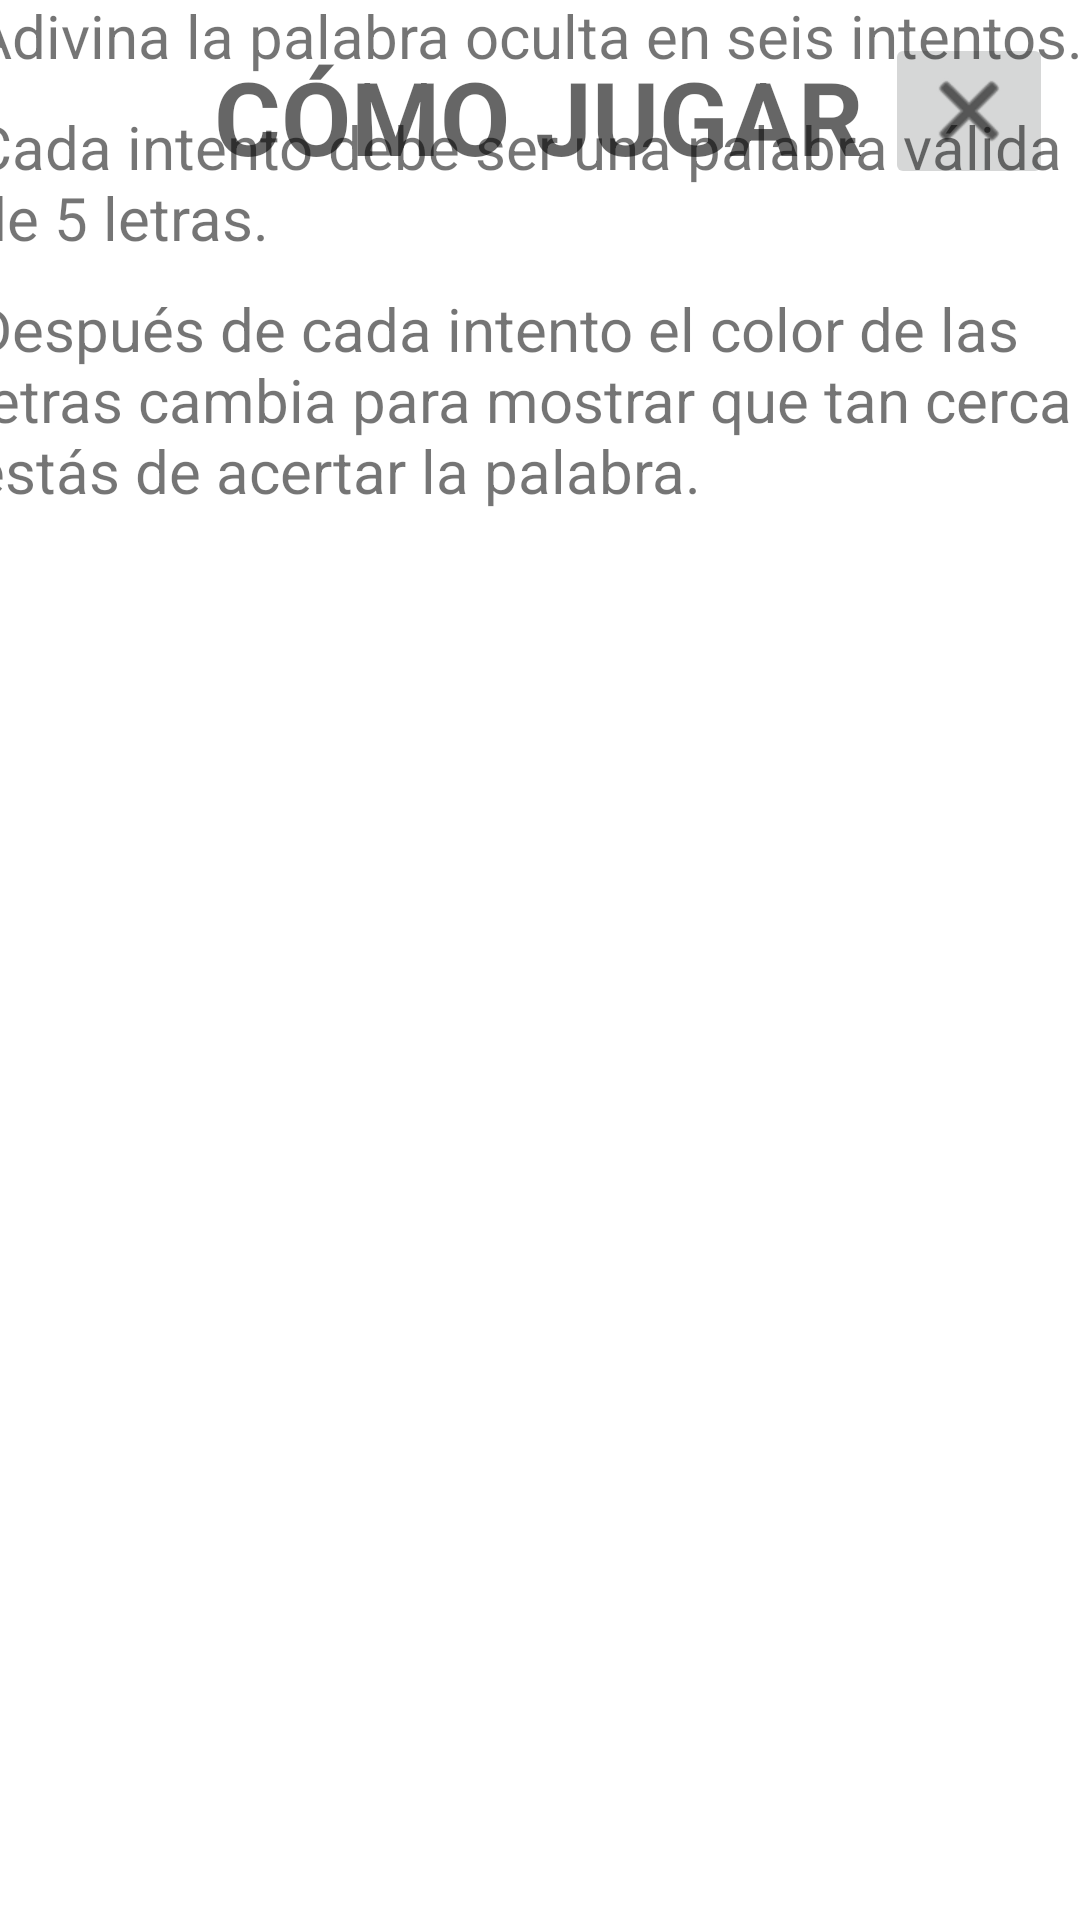

Icons on this 1080px x 1920px Android screen, each with the point to tap as (x,y):
Boton de cerrar: (970,102)
